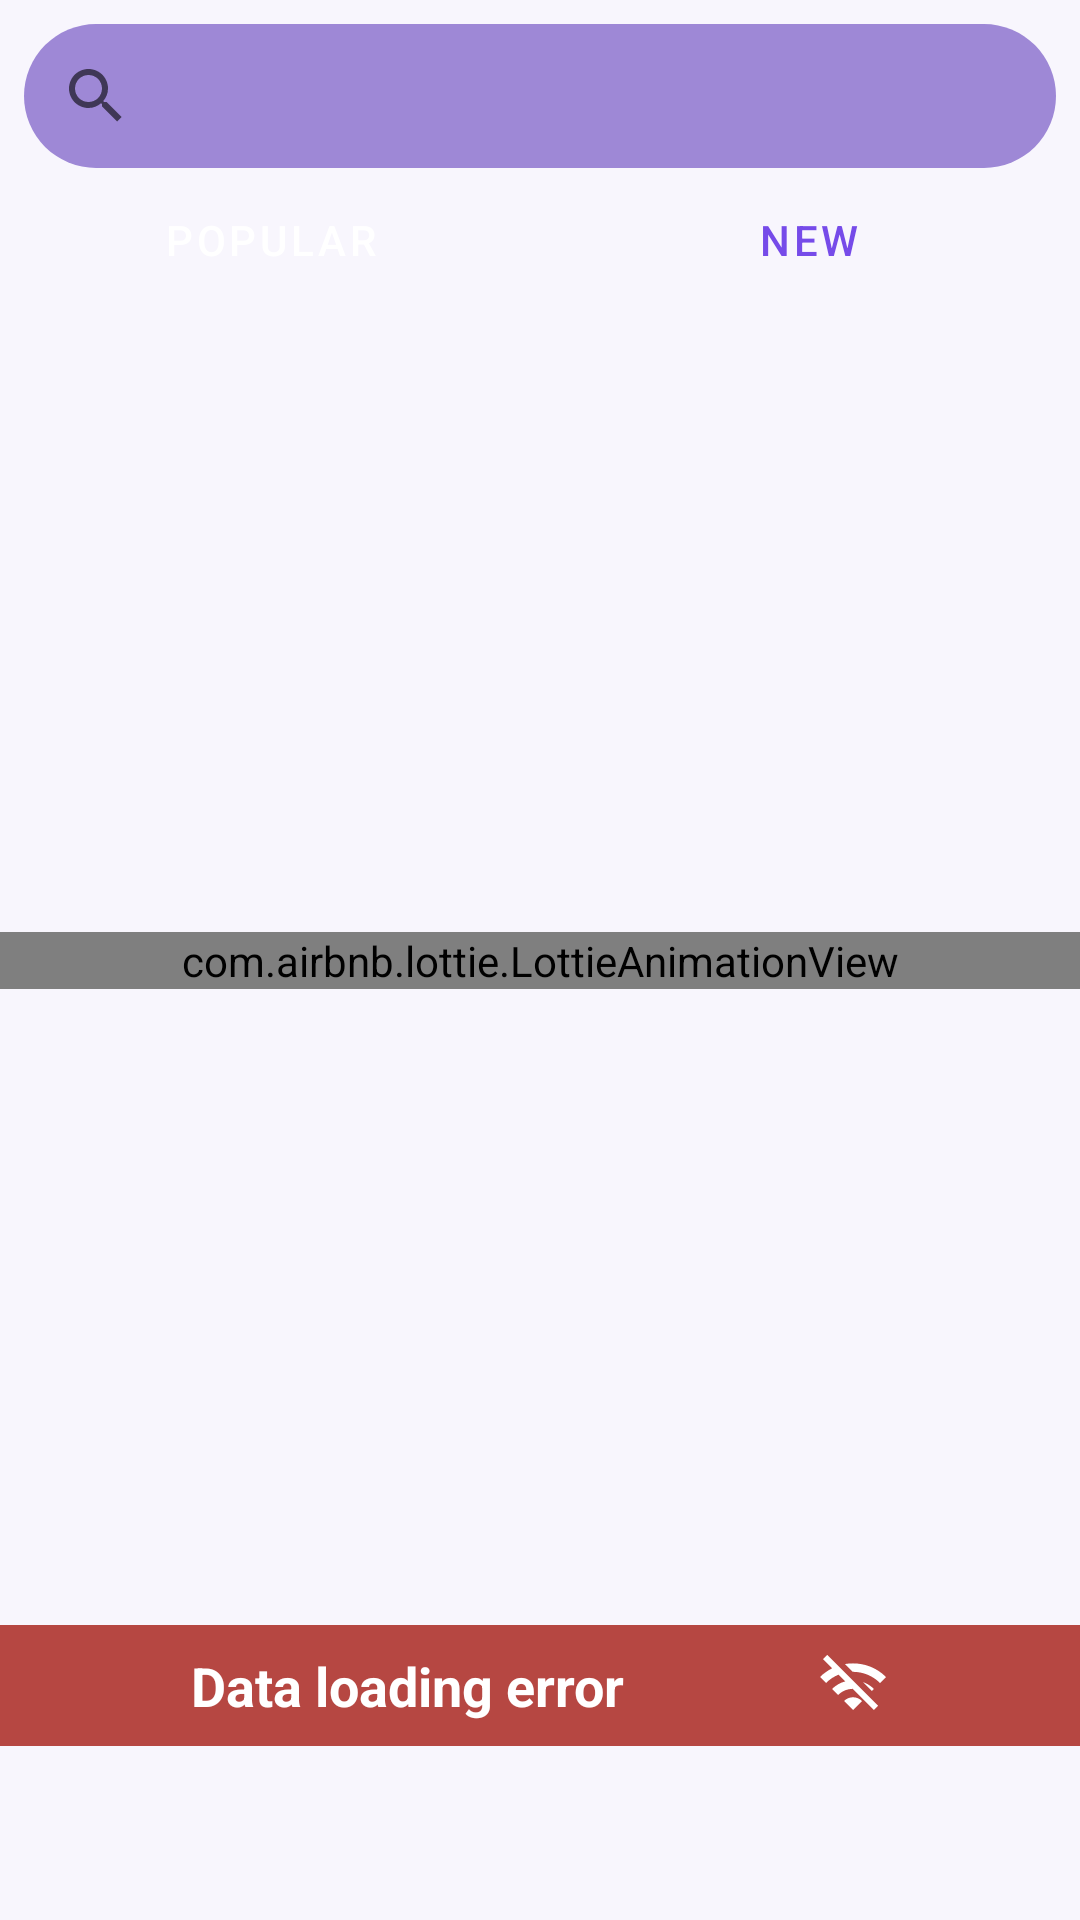

Where to tap for icons on this 1080x1920 app screen, as (x=x, y=y):
wi-fi img: (x=853, y=1682)
